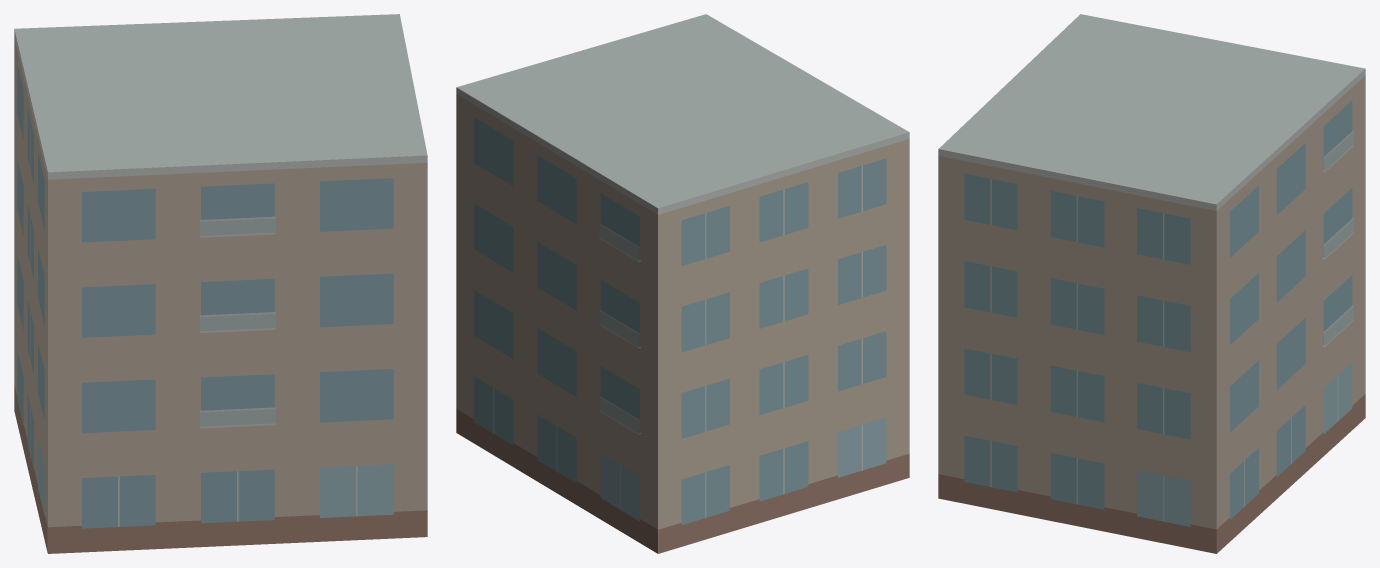
Rendered from survey-upis-32526137.glb.
The picture shows the model from 3 angles, left to right: view 1: azimuth 30°, elevation 25°; view 2: azimuth 150°, elevation 25°; view 3: azimuth 270°, elevation 25°; orthographic projection. The views are drawn at different scales.
Visible parts, largest first — view 1: survey-upis-32526137.tmp; view 2: survey-upis-32526137.tmp; view 3: survey-upis-32526137.tmp.
Boxes of the visible parts, x1,y1,x2,y2 form: survey-upis-32526137.tmp: (14, 14, 427, 553); survey-upis-32526137.tmp: (456, 14, 909, 553); survey-upis-32526137.tmp: (938, 14, 1365, 553).
Bounding box in the file's own units: 14.97 × 12.8 × 14.19.
